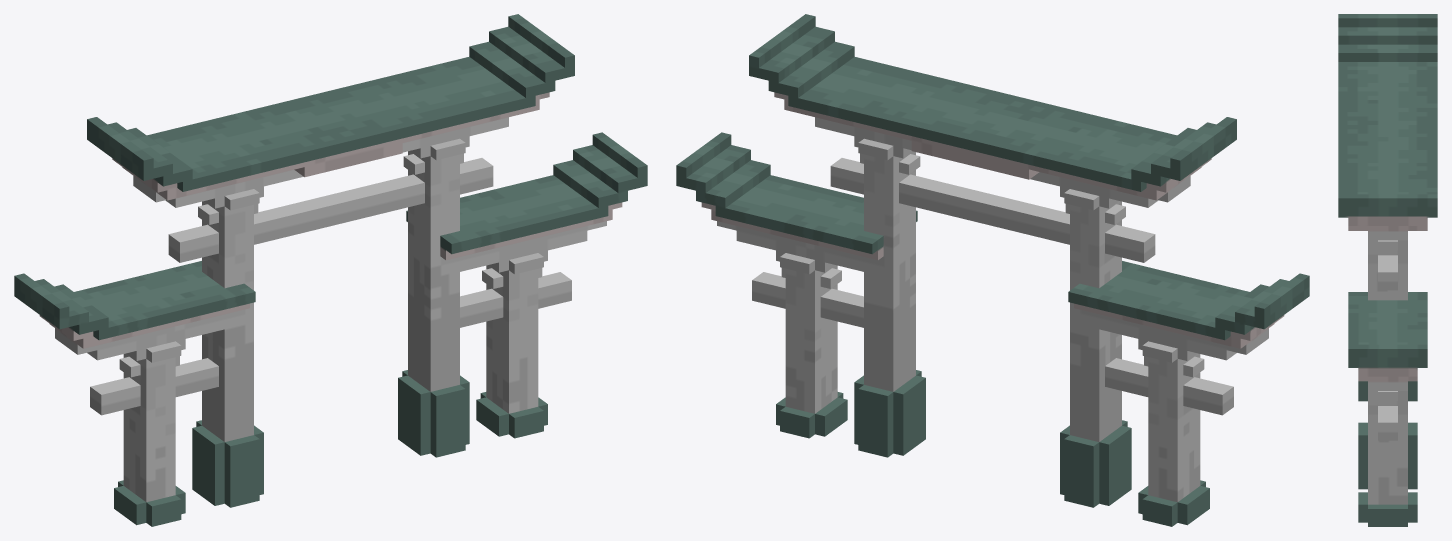
The model's file is Torii Miwa White.fbx.
3 views of the same model, side by side, from view 1: azimuth 30°, elevation 25°; view 2: azimuth 150°, elevation 25°; view 3: azimuth 270°, elevation 25° (orthographic). The views are drawn at different scales.
Visible parts, largest first — view 1: 2022 Torii (Wheezy Woods)-6Cleaned; view 2: 2022 Torii (Wheezy Woods)-6Cleaned; view 3: 2022 Torii (Wheezy Woods)-6Cleaned.
Part boxes in pixels (x1,y1,x2,y2): 2022 Torii (Wheezy Woods)-6Cleaned: (14, 14, 647, 526); 2022 Torii (Wheezy Woods)-6Cleaned: (676, 14, 1309, 526); 2022 Torii (Wheezy Woods)-6Cleaned: (1338, 14, 1437, 526).
Size of the model in its own units: 600 by 370 by 100.
Materials: 1 (1 with a texture image).
